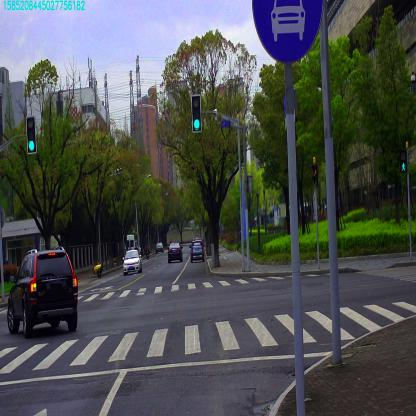traffic-light: (27, 116, 36, 152), (192, 95, 200, 131)
